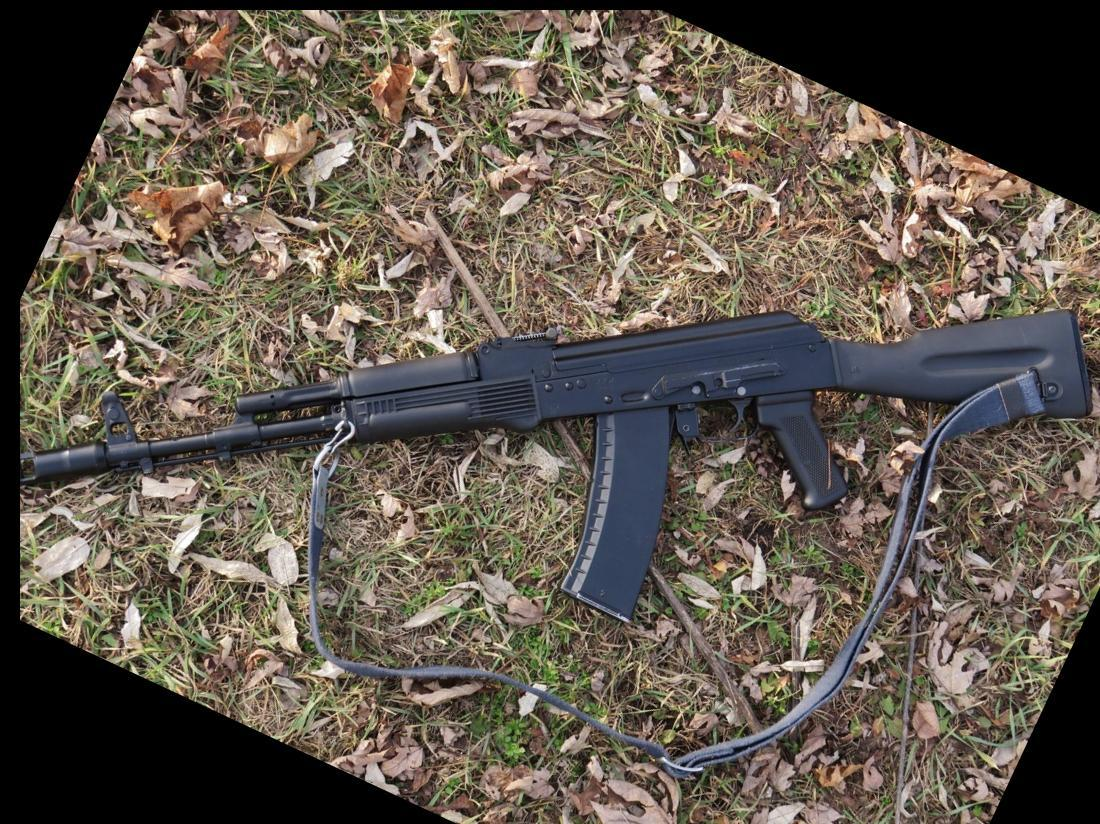larga: (19, 307, 1100, 624)
